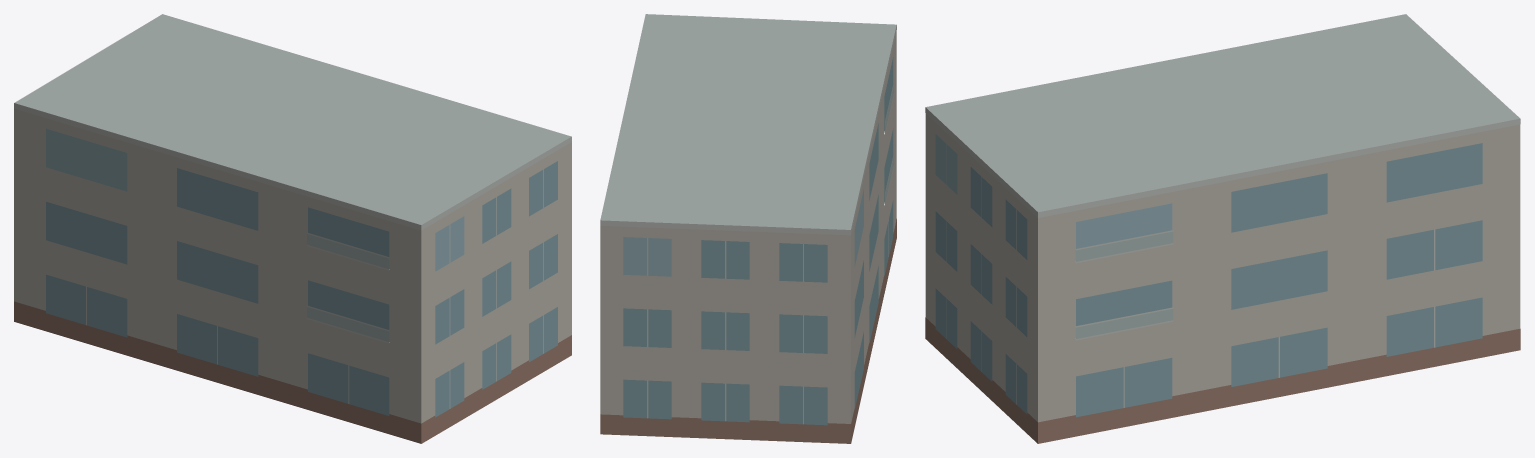
Rendered from survey-upis-32895007.glb.
3 renders of one model, left to right at view 1: azimuth 30°, elevation 25°; view 2: azimuth 150°, elevation 25°; view 3: azimuth 270°, elevation 25°, orthographic. The views are drawn at different scales.
Visible parts, largest first — view 1: survey-upis-32895007.tmp; view 2: survey-upis-32895007.tmp; view 3: survey-upis-32895007.tmp.
Boxes of the visible parts, box(x1,y1,x2,y2) form: survey-upis-32895007.tmp: box(14, 14, 571, 443); survey-upis-32895007.tmp: box(600, 14, 896, 443); survey-upis-32895007.tmp: box(925, 14, 1520, 443).
Size of the model in its own units: 18 by 9.8 by 22.83.
